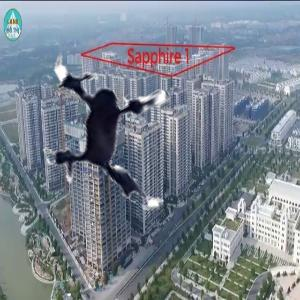drone: (17, 25, 222, 230)
